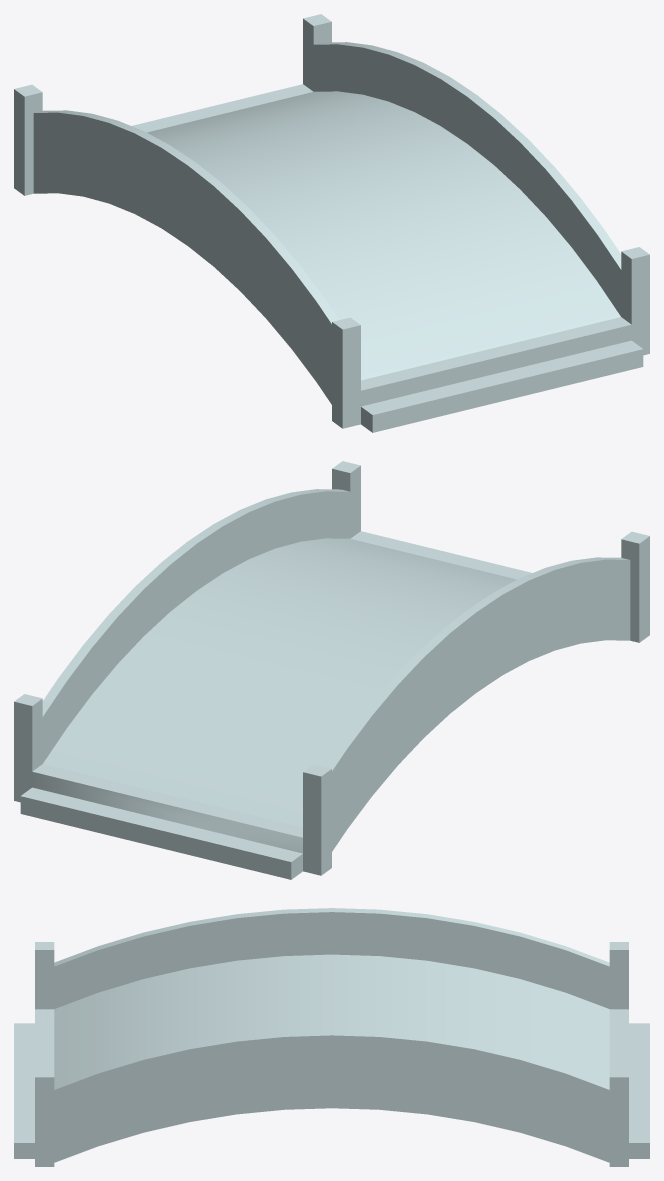
Rendered from bridge_arch.fbx.
3 renders of one model, top to bottom at view 1: azimuth 30°, elevation 25°; view 2: azimuth 150°, elevation 25°; view 3: azimuth 270°, elevation 25°, orthographic. The views are drawn at different scales.
Visible parts, largest first — view 1: bridge_arch; view 2: bridge_arch; view 3: bridge_arch.
Boxes of the visible parts, x1,y1,x2,y2 form: bridge_arch: [14, 14, 649, 432]; bridge_arch: [14, 461, 649, 879]; bridge_arch: [14, 908, 649, 1166].
Size of the model in its own units: 144 by 63 by 285.
